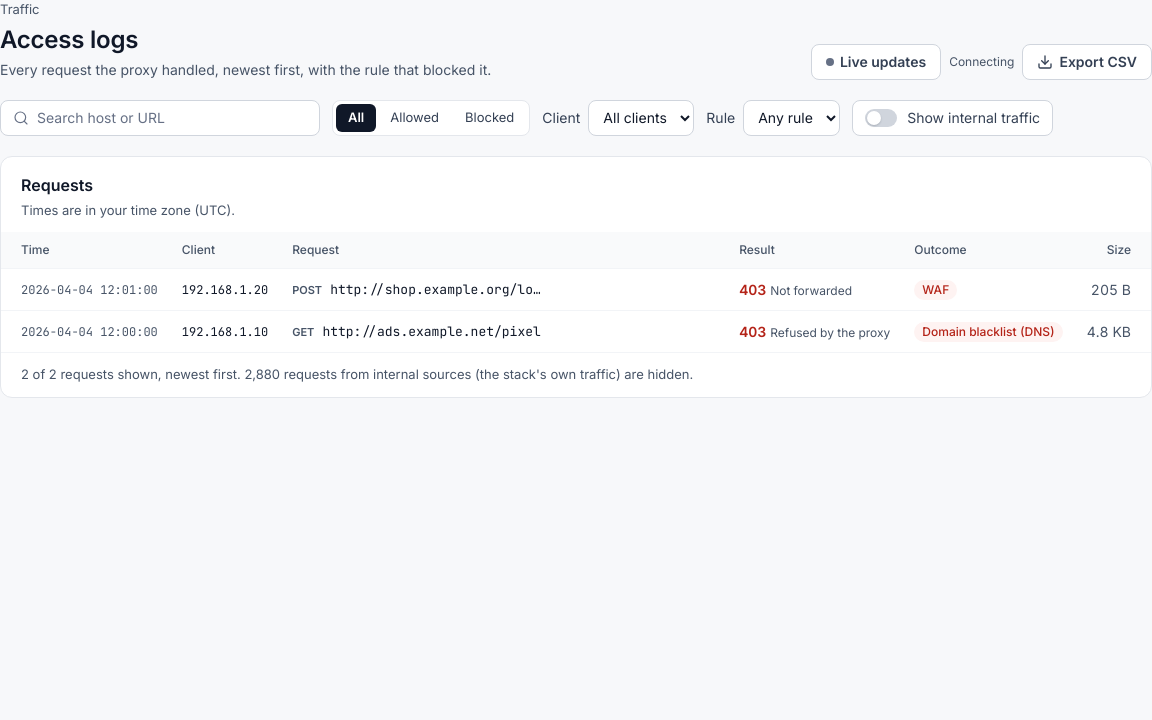
Logs › shows what the WAF matched on a WAF block with an event ID, and offers its exceptions
This screenshot has width=1152, height=720.
Click the button "http://shop.example.org/login" at (439, 290), box [330,280,548,300]
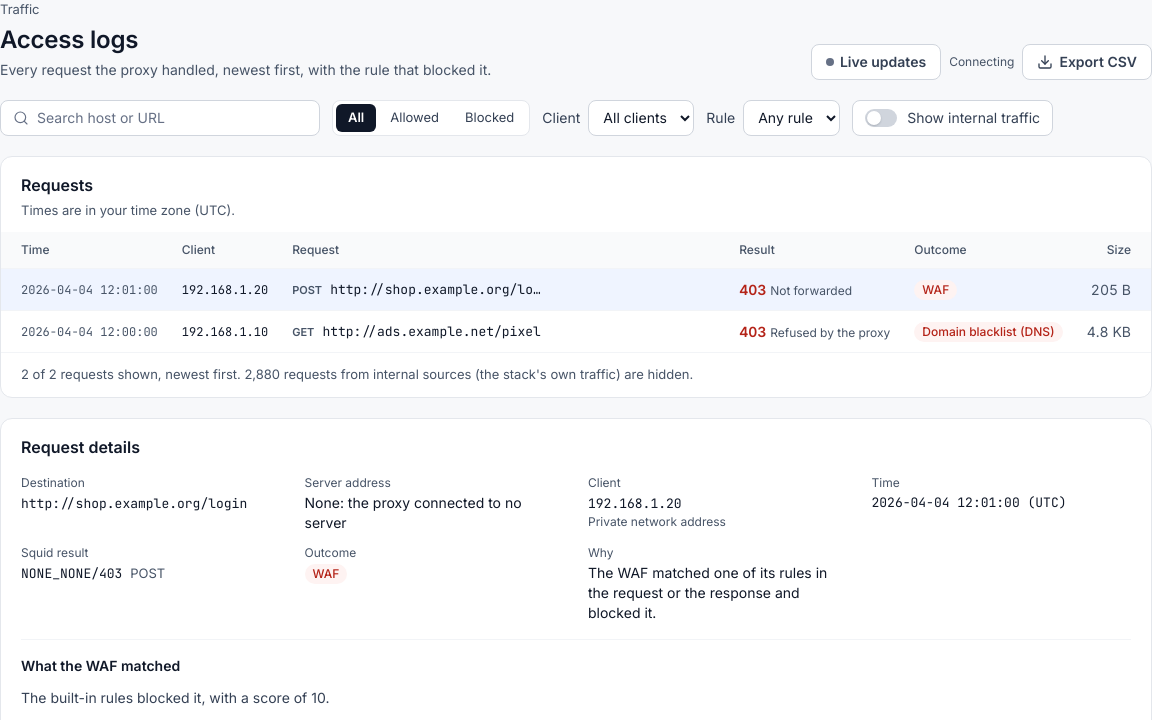
Now the heading "What the WAF matched" is shown, box [21,656,180,674]
// A block that is not the WAF's has no such section.
Click the button "http://ads.example.net/pixel" at (432, 332), box [322,322,541,342]
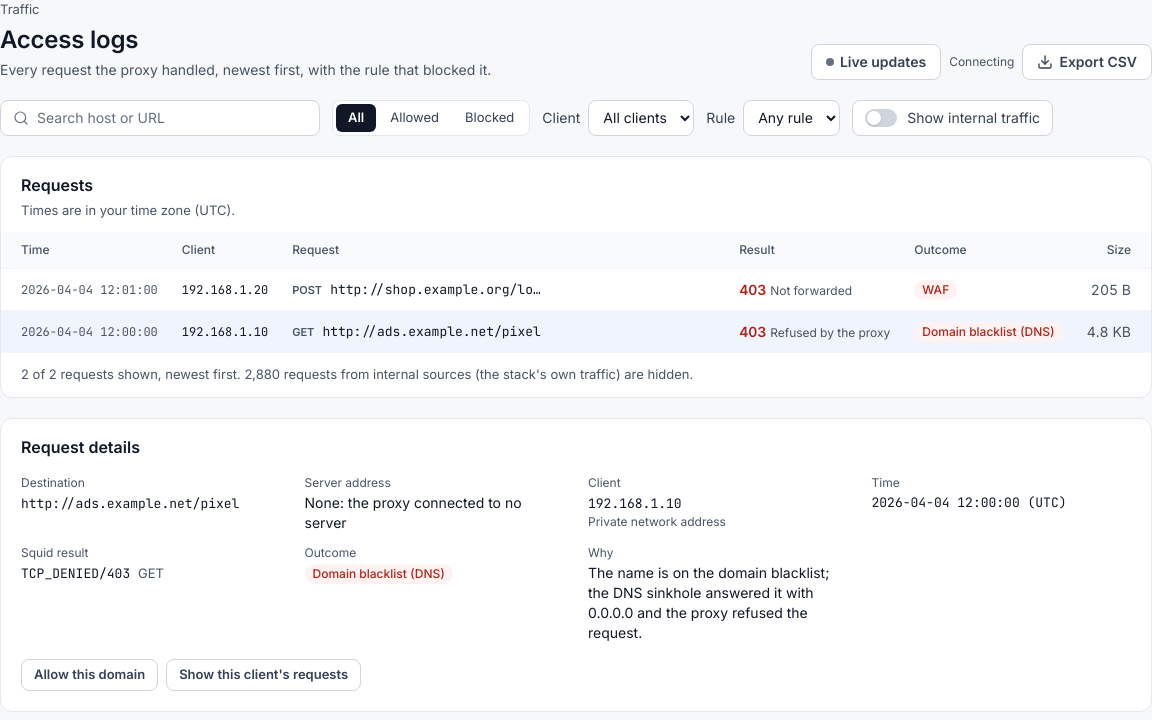
Now the heading "What the WAF matched" is gone
